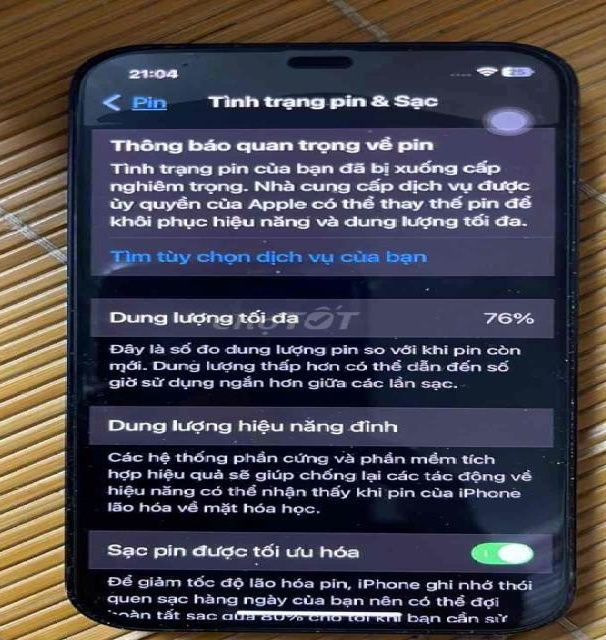screen_defect: (526, 120, 594, 616)
